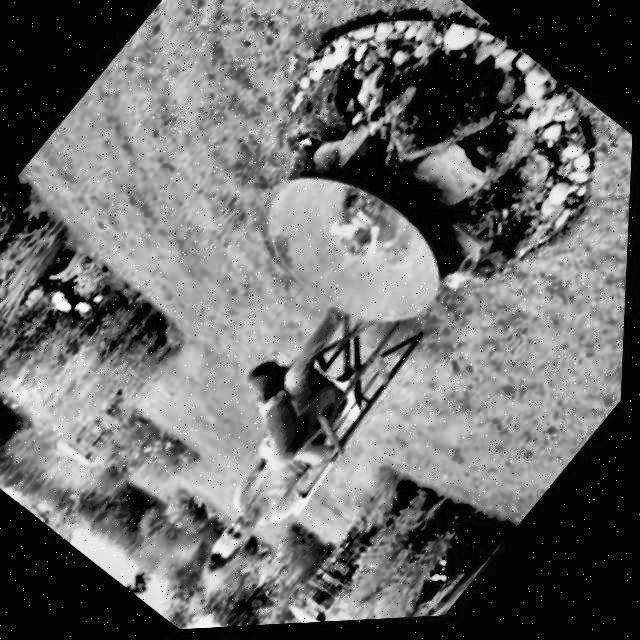Fire: (318, 194, 401, 280)
